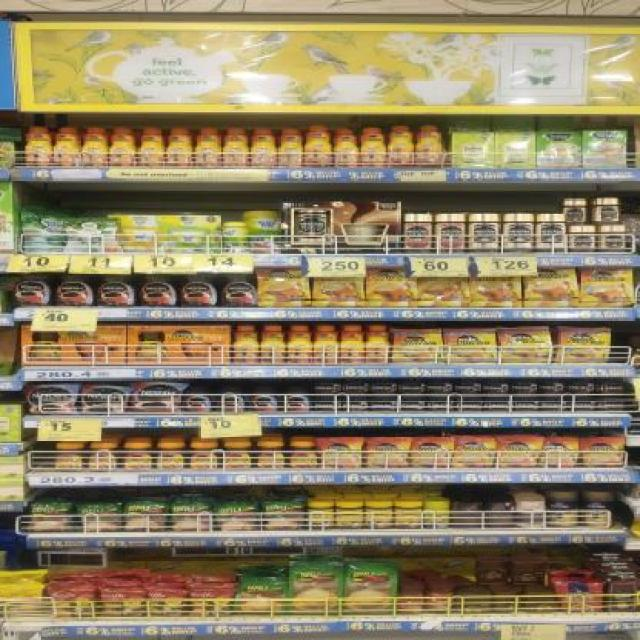Coffee: (524, 266, 578, 308), (578, 267, 634, 307), (470, 268, 522, 307), (418, 268, 470, 307), (258, 268, 311, 306), (498, 328, 552, 363), (314, 270, 366, 306), (559, 328, 610, 364), (368, 268, 414, 307), (446, 330, 497, 362), (392, 330, 443, 362), (29, 386, 76, 416), (318, 438, 362, 468), (82, 386, 127, 414), (496, 438, 538, 468), (133, 384, 179, 411), (366, 438, 408, 467), (58, 272, 93, 306), (100, 273, 135, 307), (141, 274, 176, 308), (454, 438, 495, 467), (16, 274, 53, 306), (181, 275, 217, 307), (412, 438, 451, 467), (583, 439, 622, 467), (505, 214, 533, 252), (540, 440, 580, 466), (223, 274, 255, 306), (472, 215, 498, 253), (306, 126, 329, 168), (537, 214, 563, 251), (196, 128, 221, 166), (251, 128, 275, 167), (27, 126, 50, 166), (54, 128, 78, 166), (83, 128, 106, 167), (419, 126, 441, 166), (167, 128, 190, 166), (122, 443, 153, 471), (391, 125, 412, 166), (225, 128, 247, 167), (236, 326, 258, 365), (221, 442, 251, 470), (112, 128, 134, 166), (315, 326, 336, 365), (335, 129, 357, 166), (155, 444, 185, 471), (190, 443, 218, 471), (90, 443, 118, 471), (264, 325, 284, 364), (141, 129, 162, 166), (341, 326, 362, 363), (364, 128, 384, 166), (368, 326, 389, 362), (282, 129, 302, 166), (290, 326, 310, 363), (56, 444, 84, 470), (570, 225, 596, 252), (291, 442, 317, 468), (259, 442, 284, 468), (601, 226, 625, 252), (282, 387, 308, 411), (185, 388, 210, 412), (596, 198, 619, 224), (219, 387, 243, 411), (252, 387, 276, 411), (565, 199, 586, 224), (600, 380, 628, 394), (342, 396, 366, 412), (568, 399, 595, 412), (511, 381, 537, 394), (512, 399, 538, 412), (541, 399, 567, 412), (482, 381, 507, 394), (455, 381, 479, 394), (569, 381, 593, 394), (400, 381, 424, 394), (540, 381, 564, 394), (398, 398, 424, 410), (457, 398, 481, 411), (603, 398, 628, 410), (314, 396, 337, 409), (486, 398, 509, 411), (427, 380, 451, 392), (371, 381, 395, 393), (344, 381, 368, 393), (371, 398, 395, 410), (314, 380, 337, 392), (429, 400, 454, 411)
